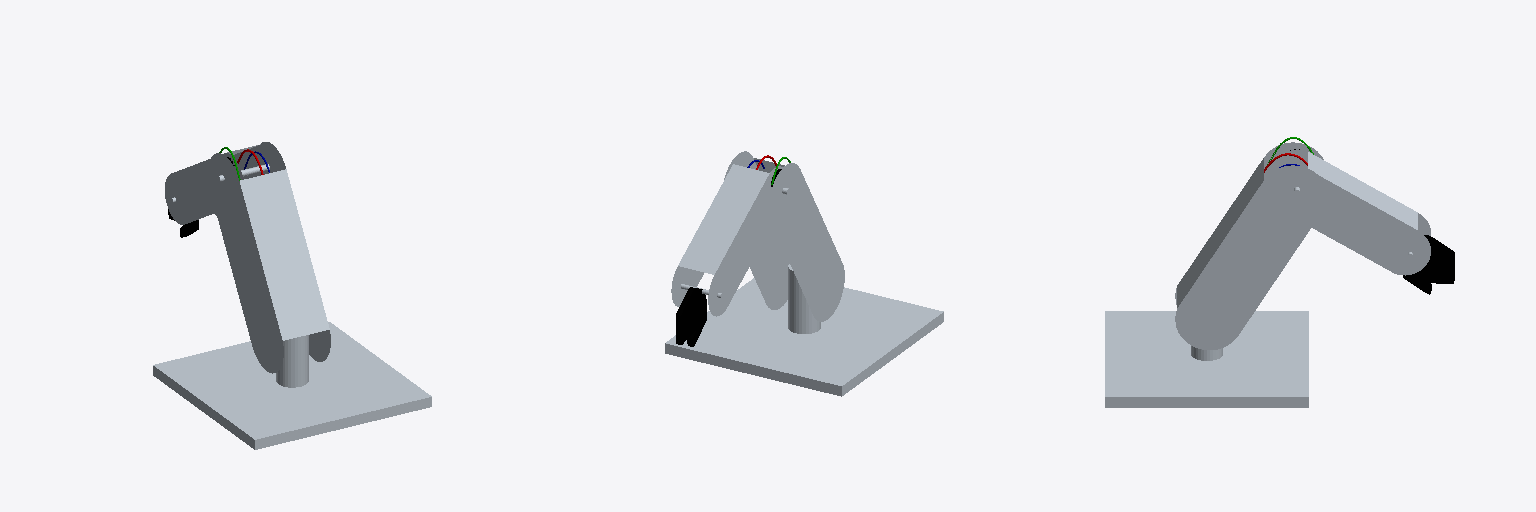
Rendered from Claw.obj.
3 views of the same model, side by side, from view 1: azimuth 30°, elevation 25°; view 2: azimuth 150°, elevation 25°; view 3: azimuth 270°, elevation 25° (orthographic).
Visible parts, largest first — view 1: Mesh1 skp9B00_1 Model, Mesh3 skp9B00_1 Model, Mesh7 skp9B00_1 Model, Mesh2 skp9B00_1 Model; view 2: Mesh1 skp9B00_1 Model, Mesh3 skp9B00_1 Model, Mesh7 skp9B00_1 Model, Mesh9 skp9B00_1 Model, Mesh2 skp9B00_1 Model; view 3: Mesh1 skp9B00_1 Model, Mesh3 skp9B00_1 Model, Mesh7 skp9B00_1 Model, Mesh9 skp9B00_1 Model.
Part boxes in pixels (x1,y1,x2,y2): Mesh1 skp9B00_1 Model: (153,322,431,449); Mesh3 skp9B00_1 Model: (208,142,330,373); Mesh7 skp9B00_1 Model: (165,144,279,224); Mesh2 skp9B00_1 Model: (276,335,308,387); Mesh1 skp9B00_1 Model: (665,278,943,396); Mesh3 skp9B00_1 Model: (724,151,844,321); Mesh7 skp9B00_1 Model: (671,157,782,316); Mesh9 skp9B00_1 Model: (676,287,706,346); Mesh2 skp9B00_1 Model: (788,264,820,333); Mesh1 skp9B00_1 Model: (1105,311,1308,407); Mesh3 skp9B00_1 Model: (1175,142,1327,349); Mesh7 skp9B00_1 Model: (1272,150,1430,275); Mesh9 skp9B00_1 Model: (1403,235,1454,294).
Size of the model in its own units: 78.74 by 92.08 by 135.